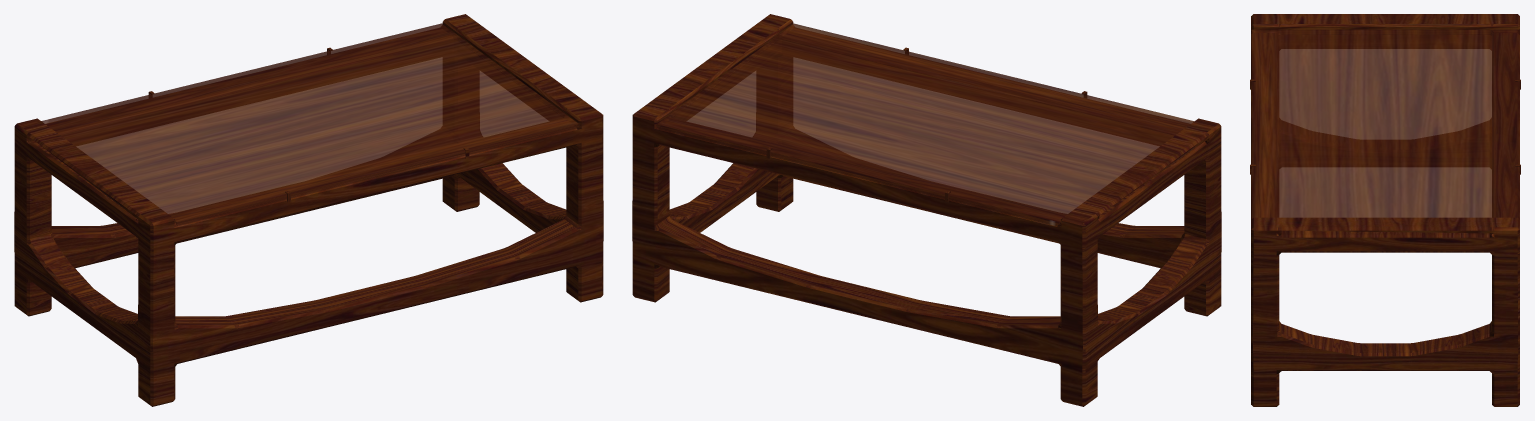
File: Table and Glasses.obj
3 views of the same model, side by side, from view 1: azimuth 30°, elevation 25°; view 2: azimuth 150°, elevation 25°; view 3: azimuth 270°, elevation 25° (orthographic). The views are drawn at different scales.
Parts seen in each view (by area): view 1: Mesh, Mesh (2); view 2: Mesh, Mesh (2); view 3: Mesh, Mesh (2).
Boxes of the visible parts, box(x1,y1,x2,y2) form: Mesh: box(14, 14, 603, 406); Mesh (2): box(41, 23, 579, 225); Mesh: box(632, 14, 1221, 406); Mesh (2): box(656, 23, 1193, 226); Mesh: box(1250, 14, 1519, 406); Mesh (2): box(1250, 29, 1520, 218).
Size of the model in its own units: 1.27 by 0.4935 by 0.6749.
